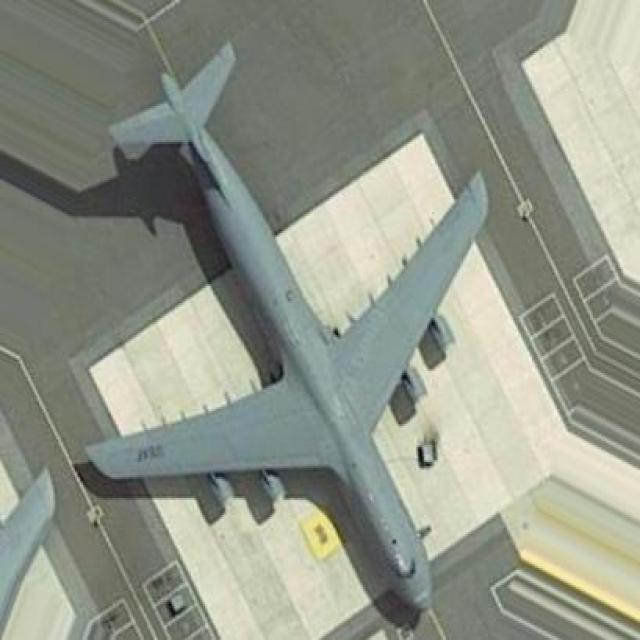C-5_TopDown: (72, 37, 497, 632)
